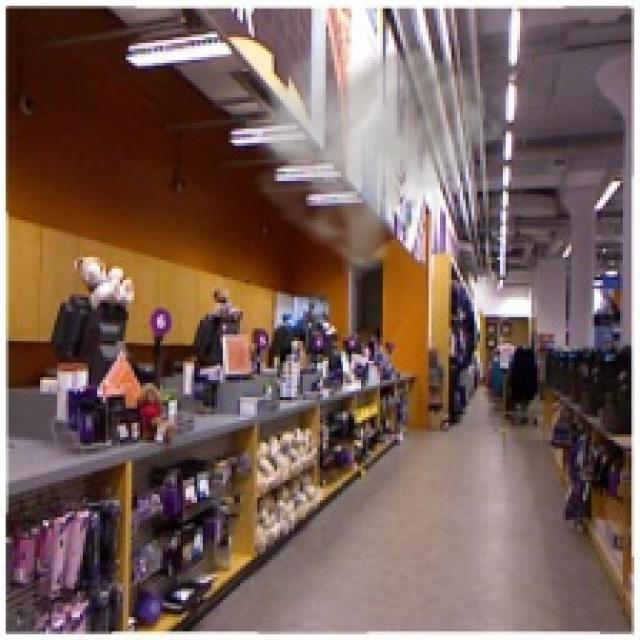smoke: (246, 20, 508, 289)
